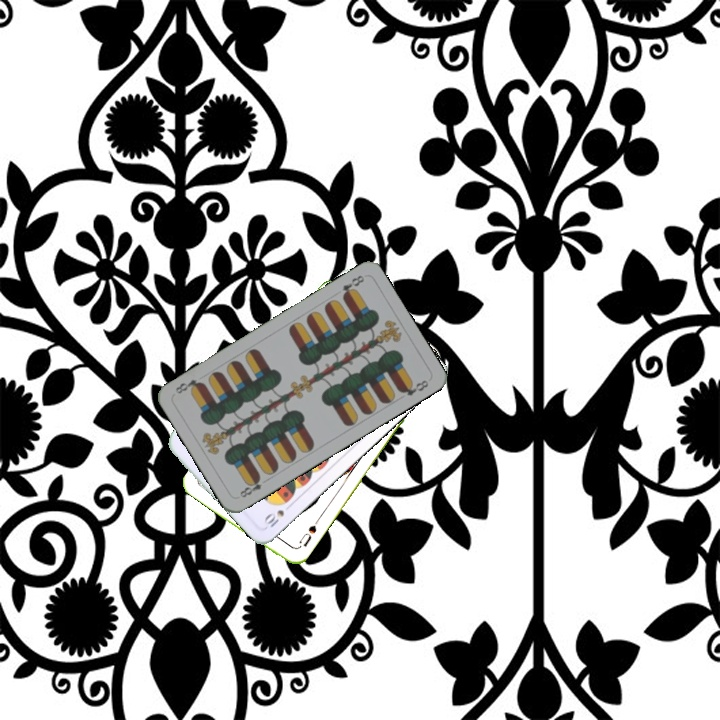E8: (236, 472, 271, 500), (338, 271, 367, 301)
S10: (260, 499, 295, 531)
SU: (295, 516, 321, 549)
